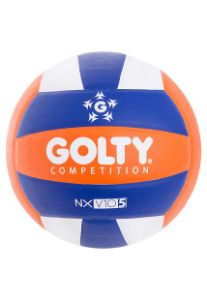voleibol: (6, 52, 201, 249)
